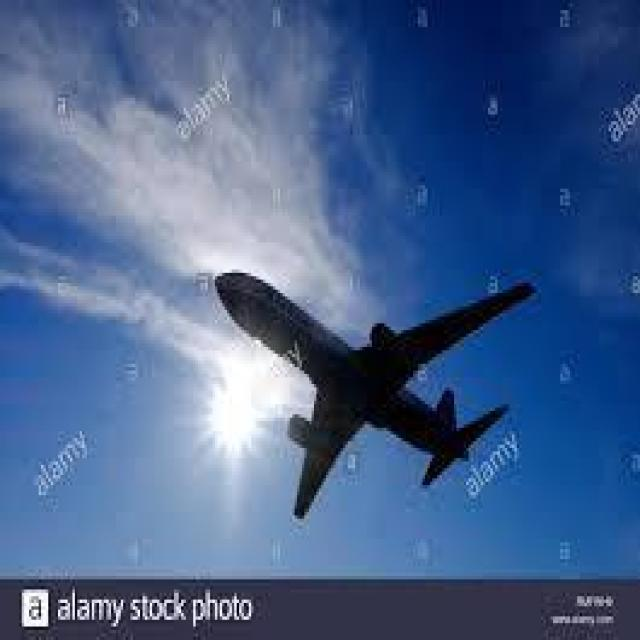Tanks: (214, 256, 540, 529)
